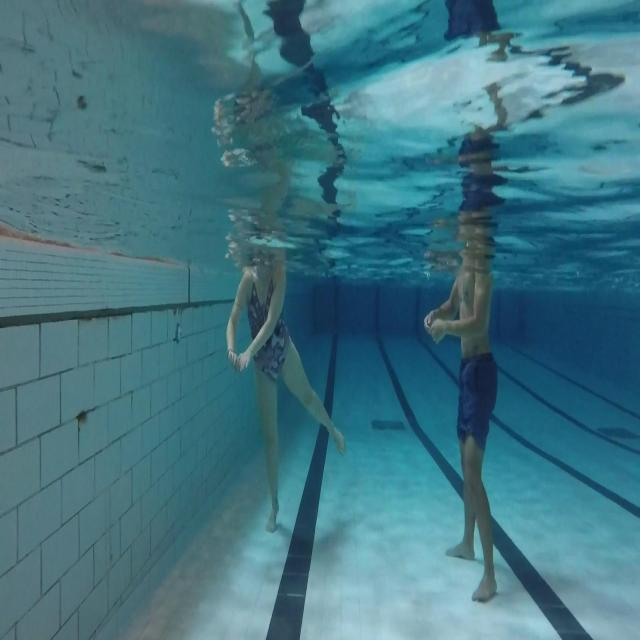human: (422, 125, 507, 602), (225, 235, 346, 533)
